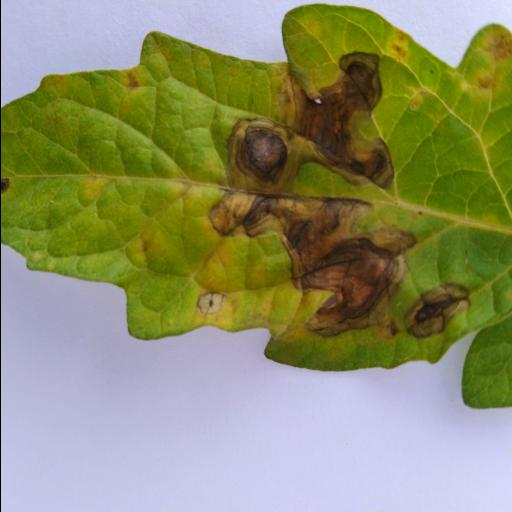disease_tomato: (0, 0, 512, 369)
